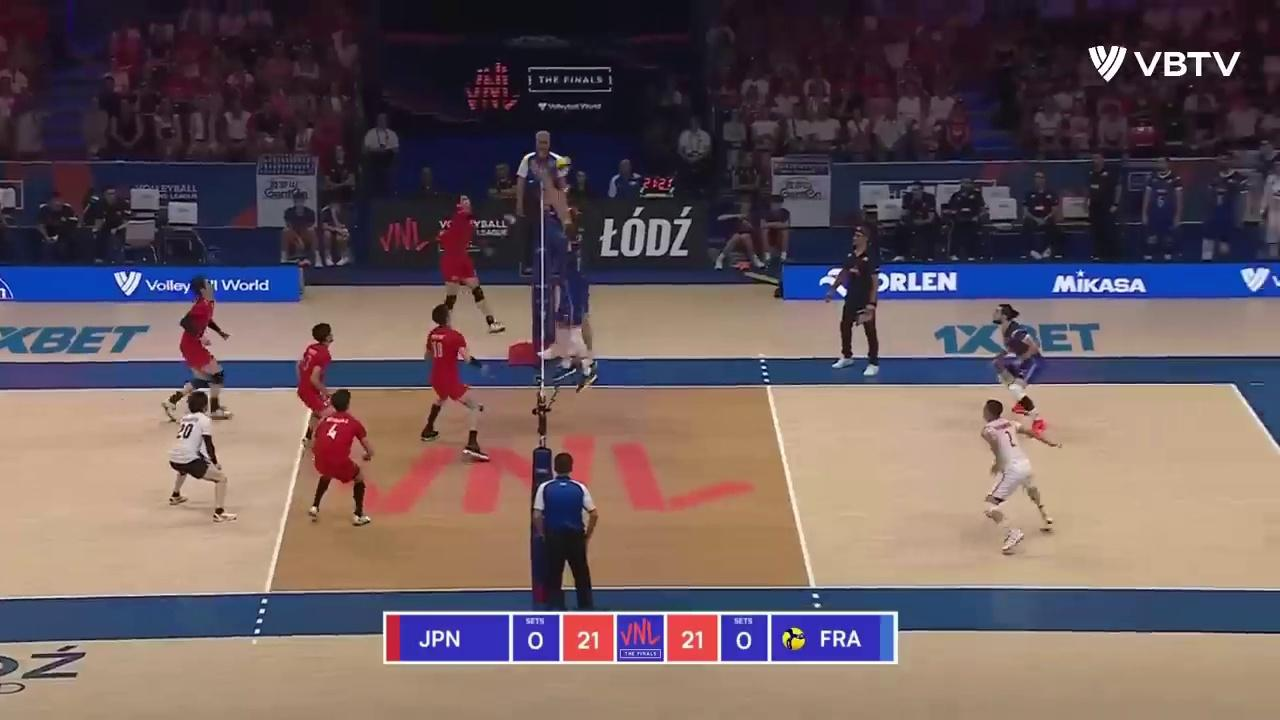ball: (554, 156, 572, 178)
